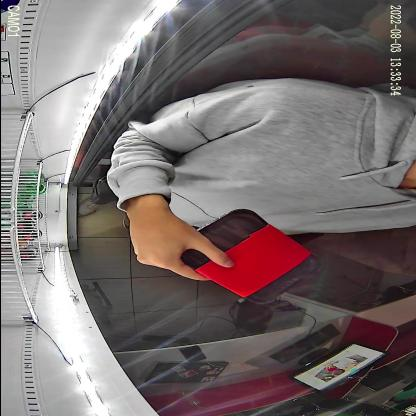red: (178, 209, 322, 306)
